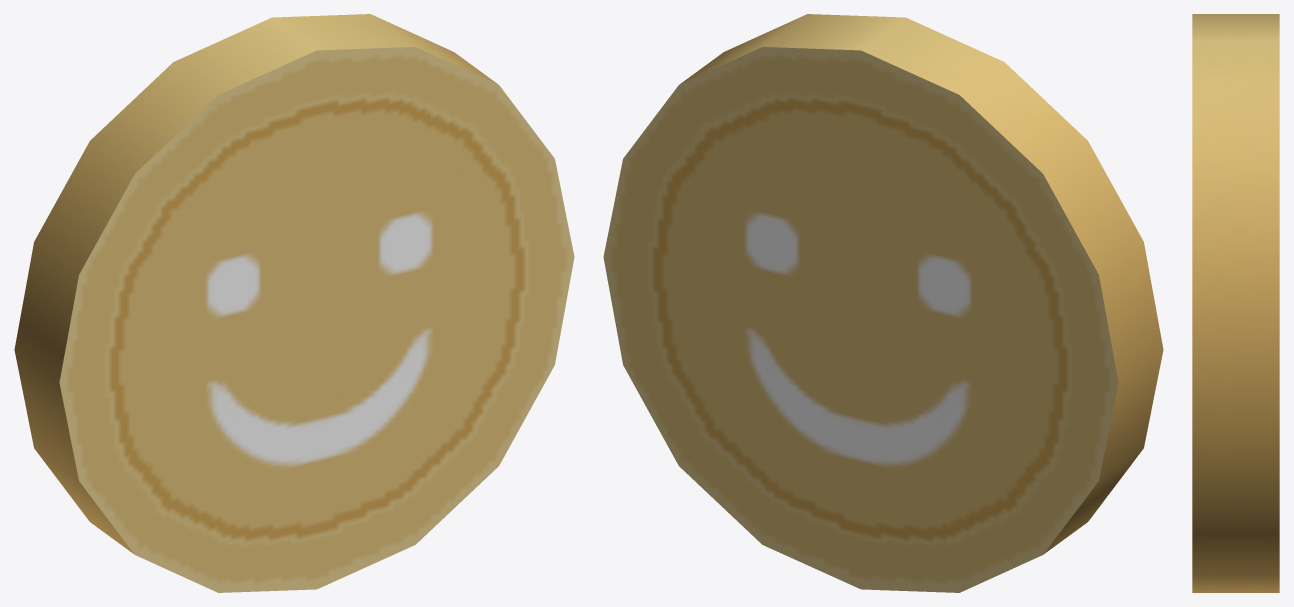
Rendered from Avatar_Face_1_Mod.FBX.
3 views of the same model, side by side, from view 1: azimuth 30°, elevation 25°; view 2: azimuth 150°, elevation 25°; view 3: azimuth 270°, elevation 25° (orthographic). The views are drawn at different scales.
Visible parts, largest first — view 1: Avatar_Face_1_Mod; view 2: Avatar_Face_1_Mod; view 3: Avatar_Face_1_Mod.
Boxes of the visible parts, <box> form: Avatar_Face_1_Mod: <box>14,14,574,592</box>; Avatar_Face_1_Mod: <box>603,14,1163,592</box>; Avatar_Face_1_Mod: <box>1192,14,1279,592</box>.
Size of the model in its own units: 20.47 by 20.47 by 3.1.
